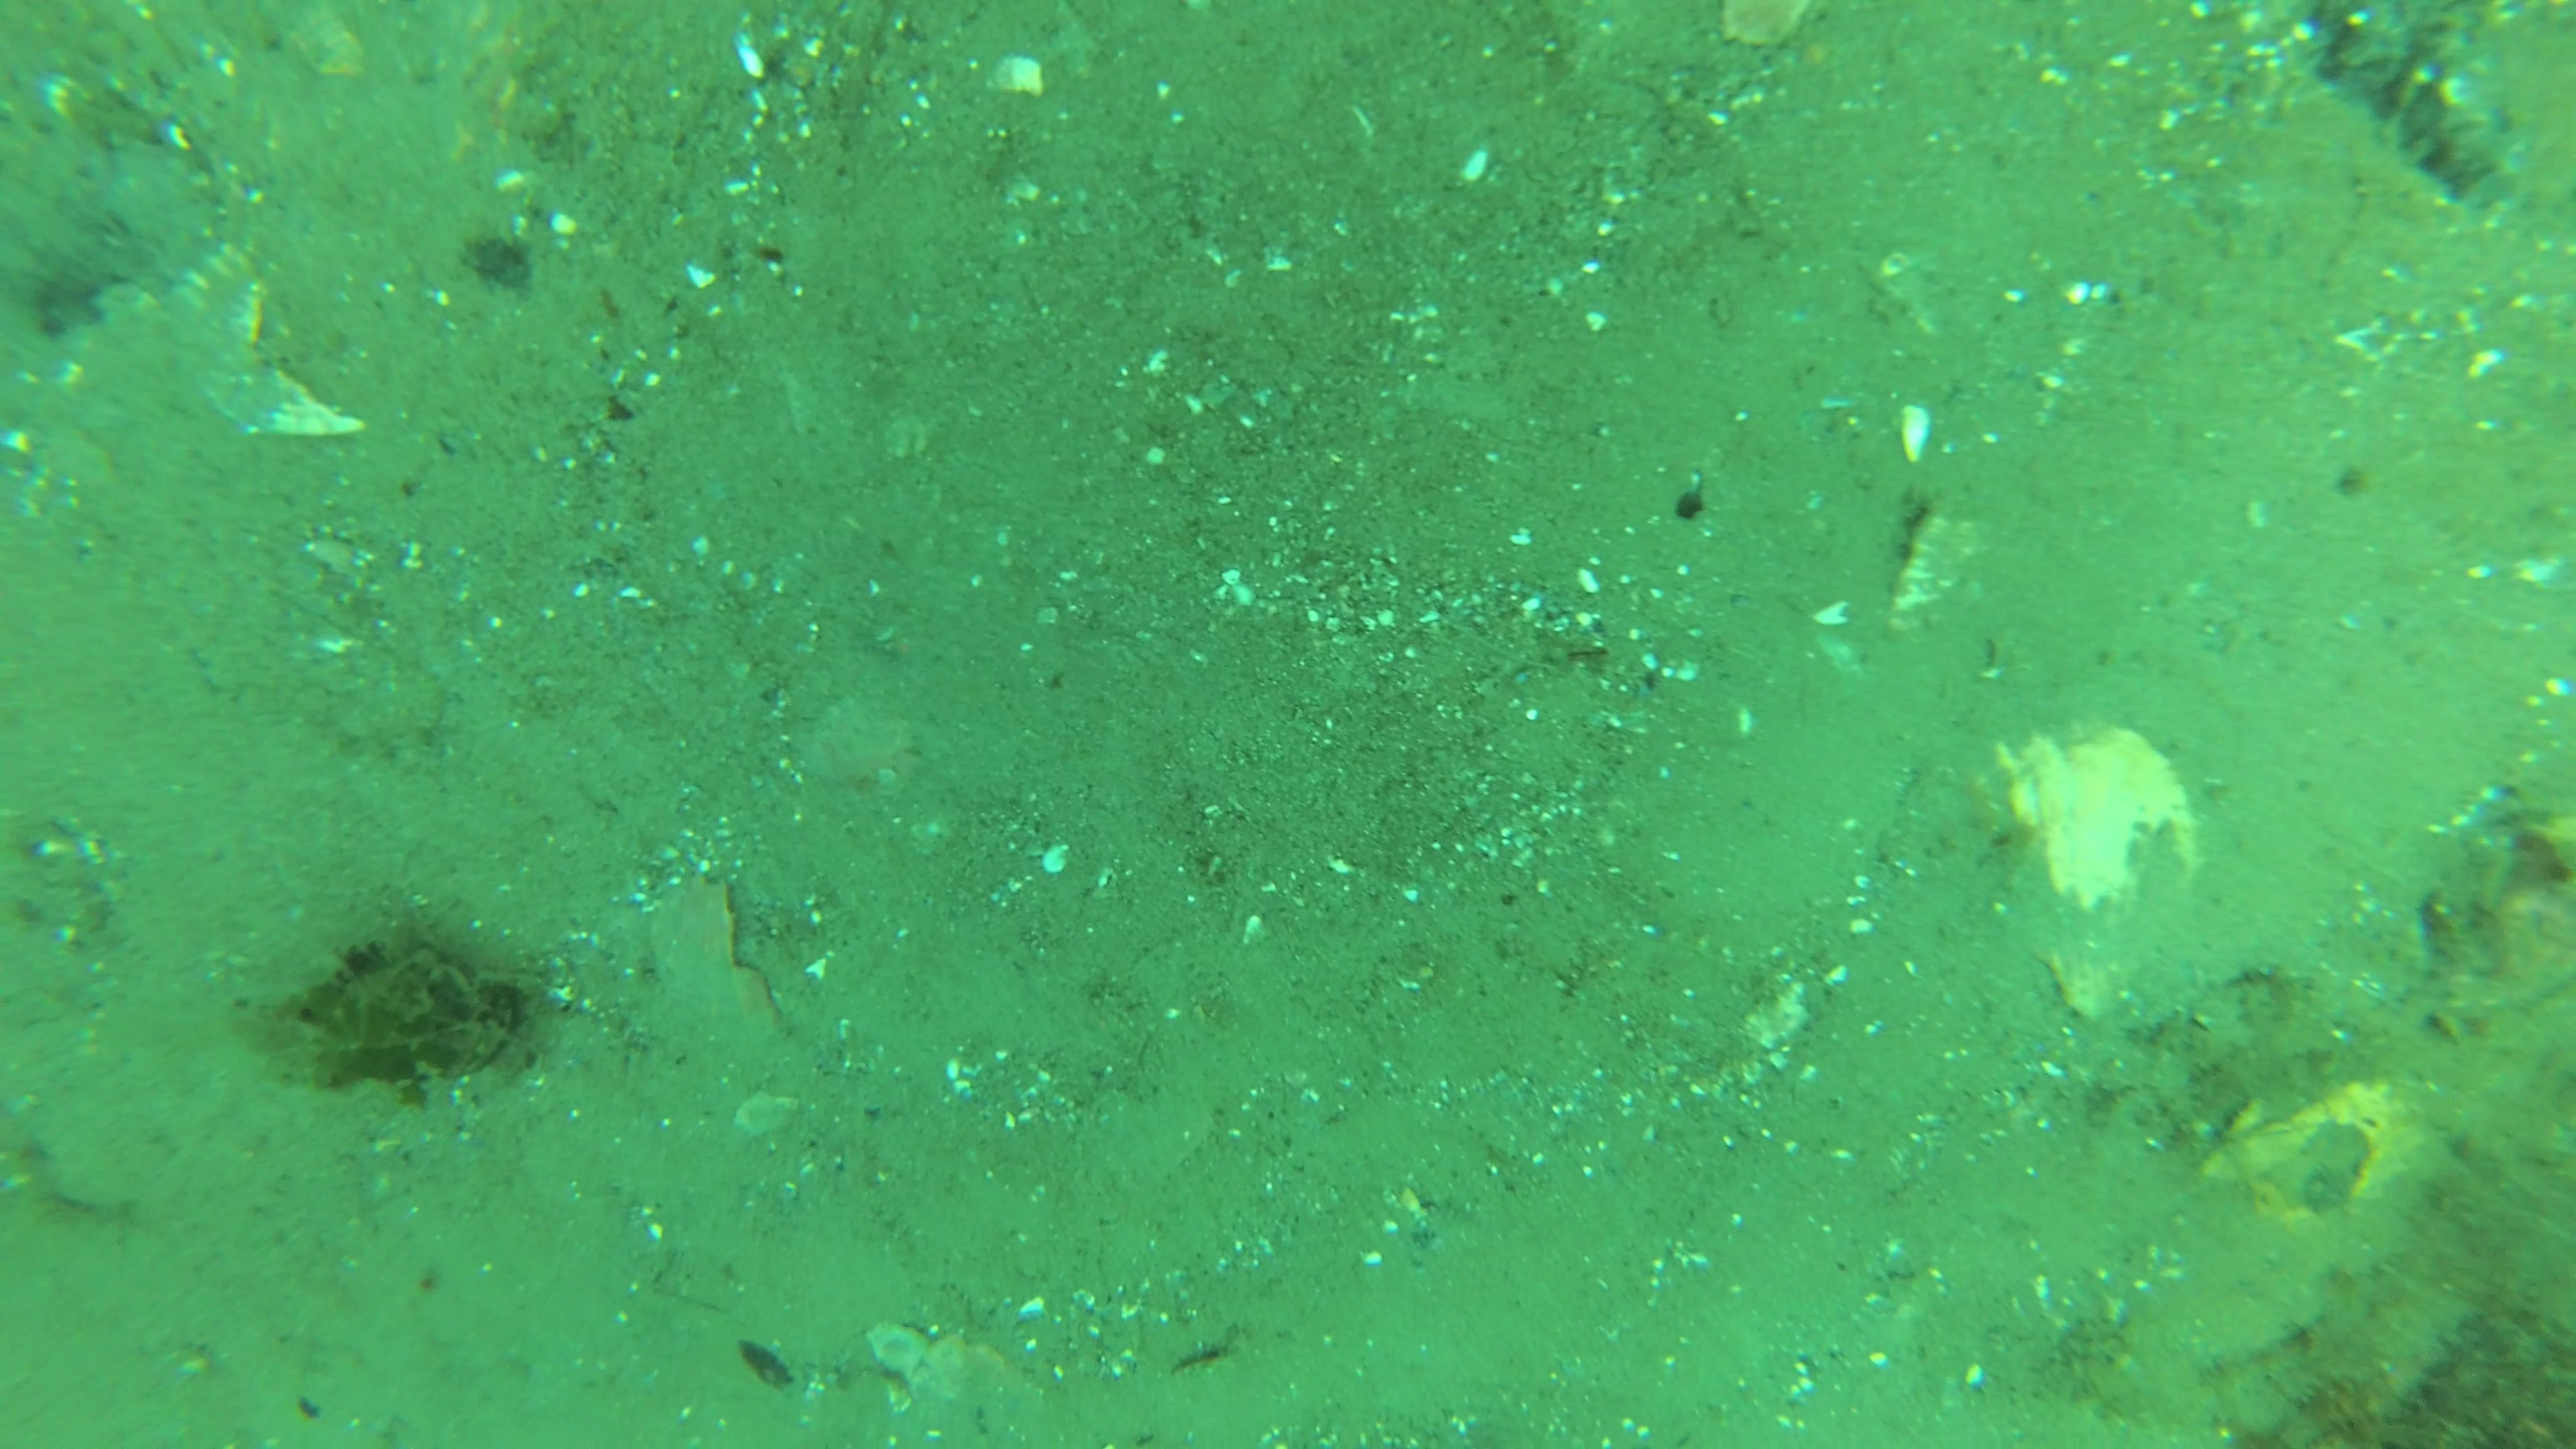scallop: (1957, 722, 2196, 1028)
